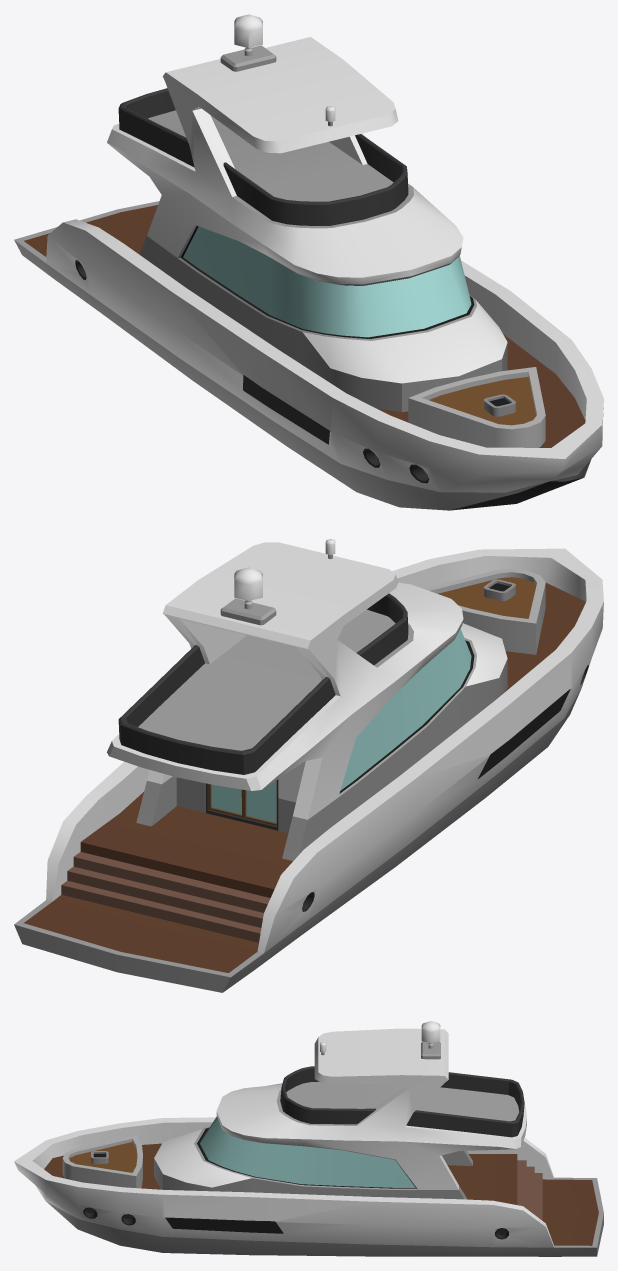
Rendered from SM_Vehicles_ Yacht.fbx.
3 renders of one model, top to bottom at view 1: azimuth 30°, elevation 25°; view 2: azimuth 150°, elevation 25°; view 3: azimuth 270°, elevation 25°, orthographic. The views are drawn at different scales.
Parts seen in each view (by area): view 1: SM_Vehicles_ Yacht; view 2: SM_Vehicles_ Yacht; view 3: SM_Vehicles_ Yacht.
Boxes of the visible parts, x1,y1,x2,y2 form: SM_Vehicles_ Yacht: (14, 14, 603, 510); SM_Vehicles_ Yacht: (14, 539, 603, 992); SM_Vehicles_ Yacht: (14, 1021, 603, 1256).
Bounding box in the file's own units: 5.99 × 7.64 × 18.64.
